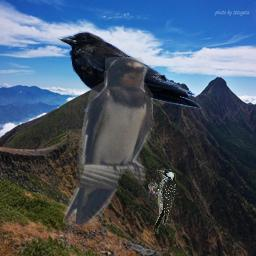Crow: (56, 31, 202, 112)
Swallow: (63, 57, 153, 226)
Woodpecker: (148, 169, 176, 234)
